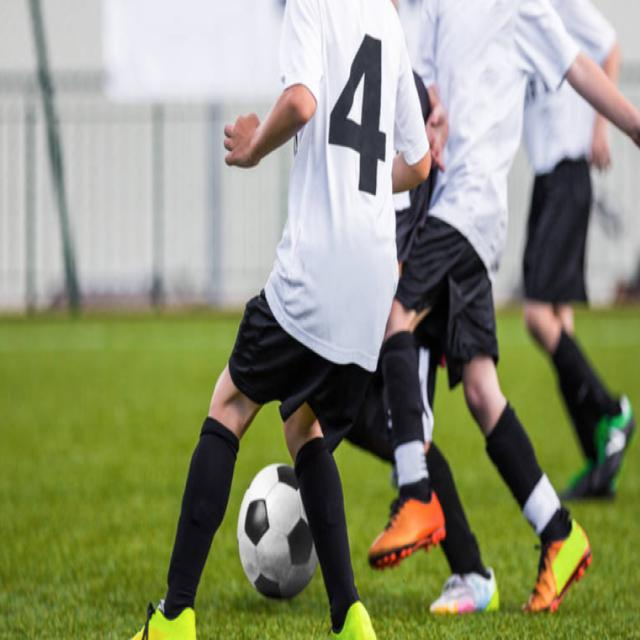football: (232, 459, 329, 615)
